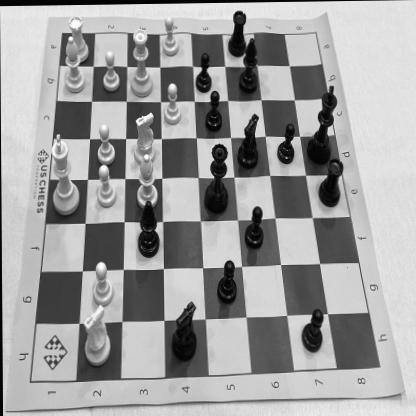black-bishop: (128, 196, 162, 258), (238, 34, 261, 96)
black-king: (305, 79, 340, 168)
black-pawn: (298, 305, 326, 356), (214, 254, 239, 307), (241, 202, 266, 251), (192, 46, 214, 95), (203, 84, 224, 134), (275, 120, 297, 167)
black-queen: (202, 140, 232, 215)
black-rook: (316, 154, 346, 212), (225, 8, 249, 60)
white-bishop: (134, 150, 162, 212), (61, 33, 88, 95)
white-king: (46, 127, 84, 218)
white-knight: (80, 303, 116, 368), (132, 107, 158, 164)
white-pawn: (87, 256, 115, 306), (93, 162, 119, 210), (94, 117, 118, 167), (160, 79, 184, 127), (100, 46, 122, 93), (160, 14, 181, 58)
white-queen: (127, 26, 156, 100)
white-rook: (66, 10, 92, 65)
